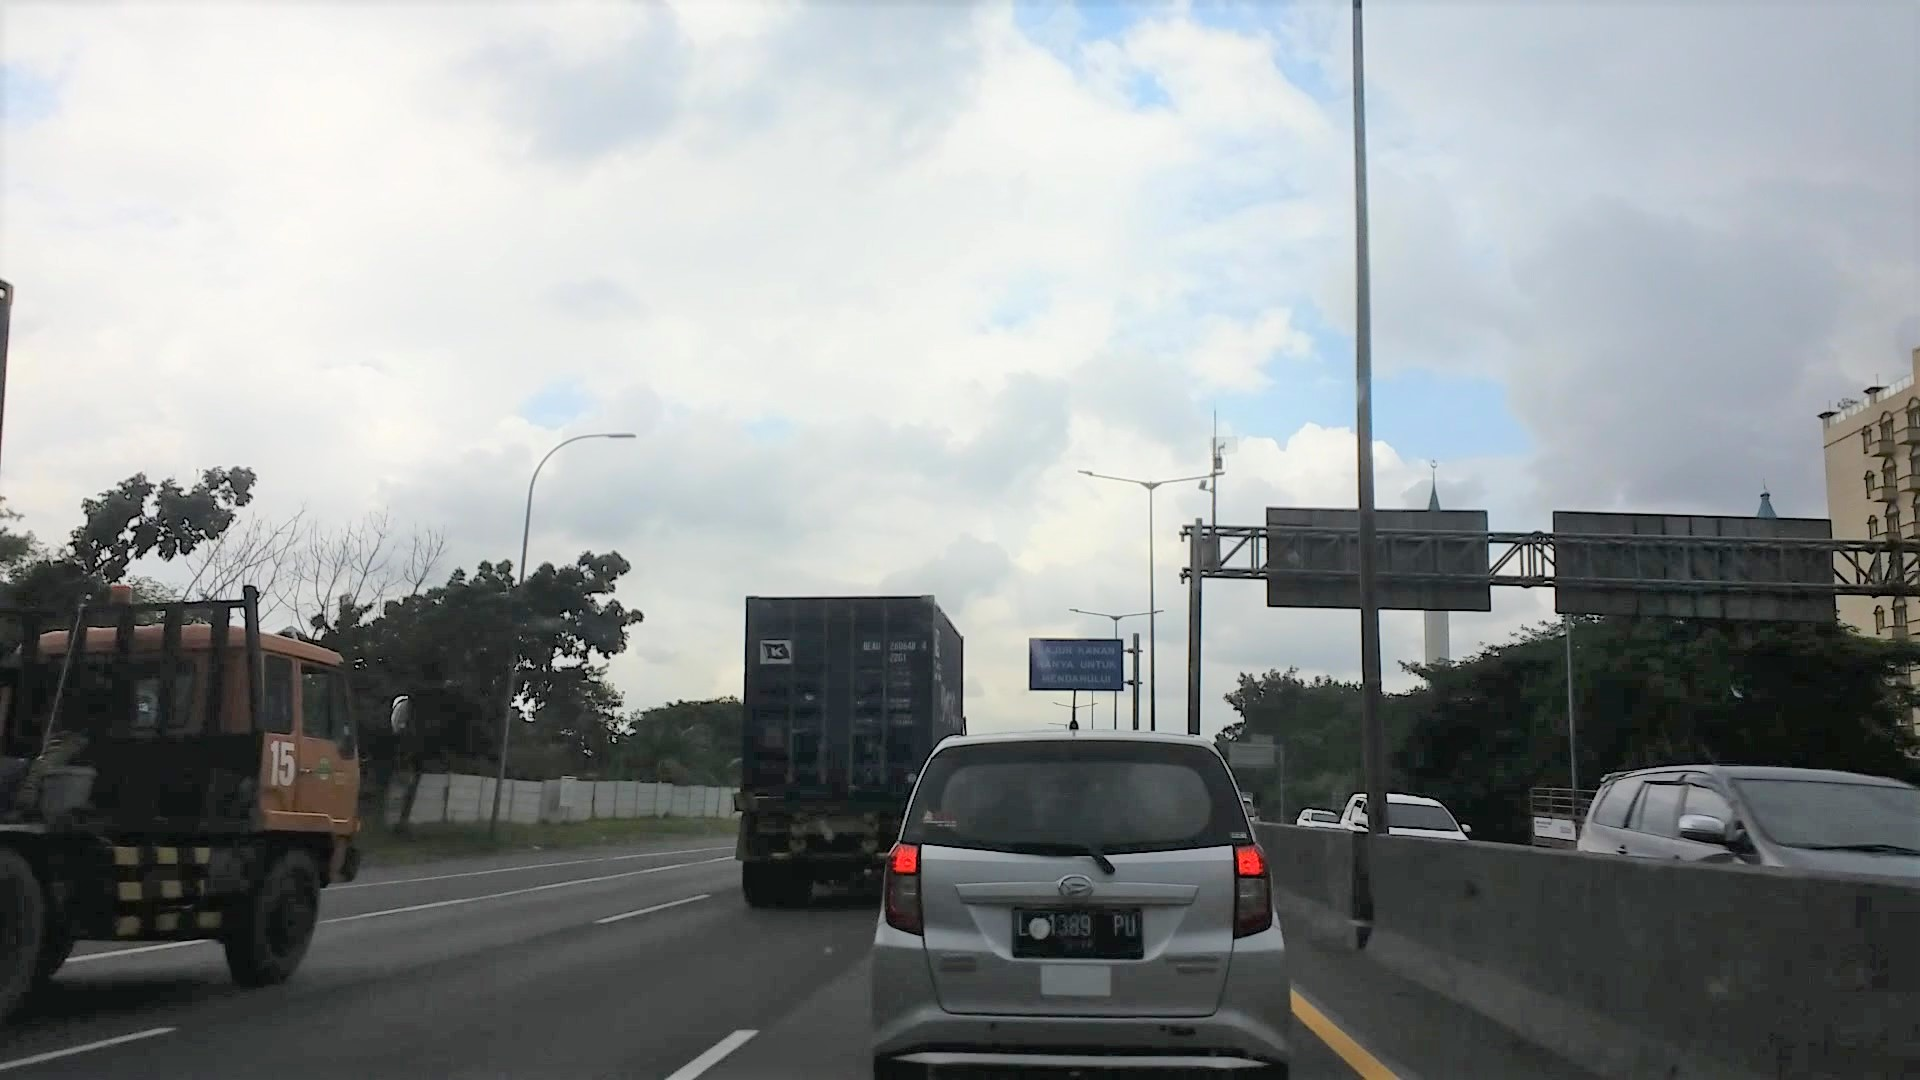plate_positive: (1011, 905, 1143, 960)
